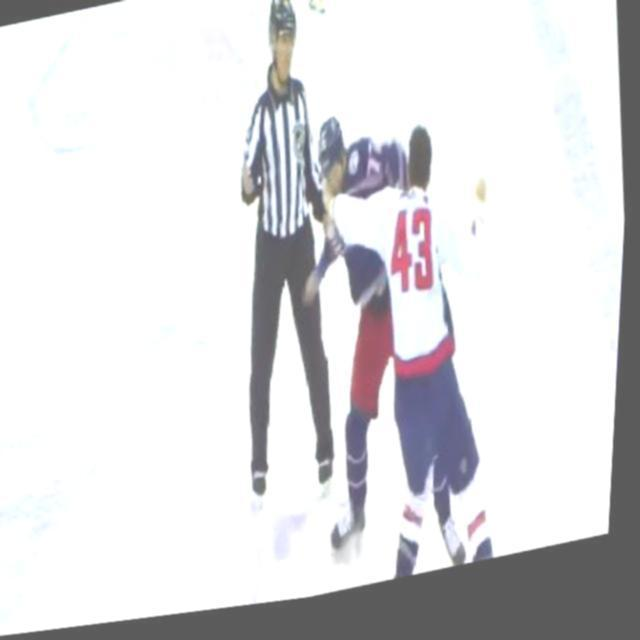fight: (280, 83, 533, 608)
